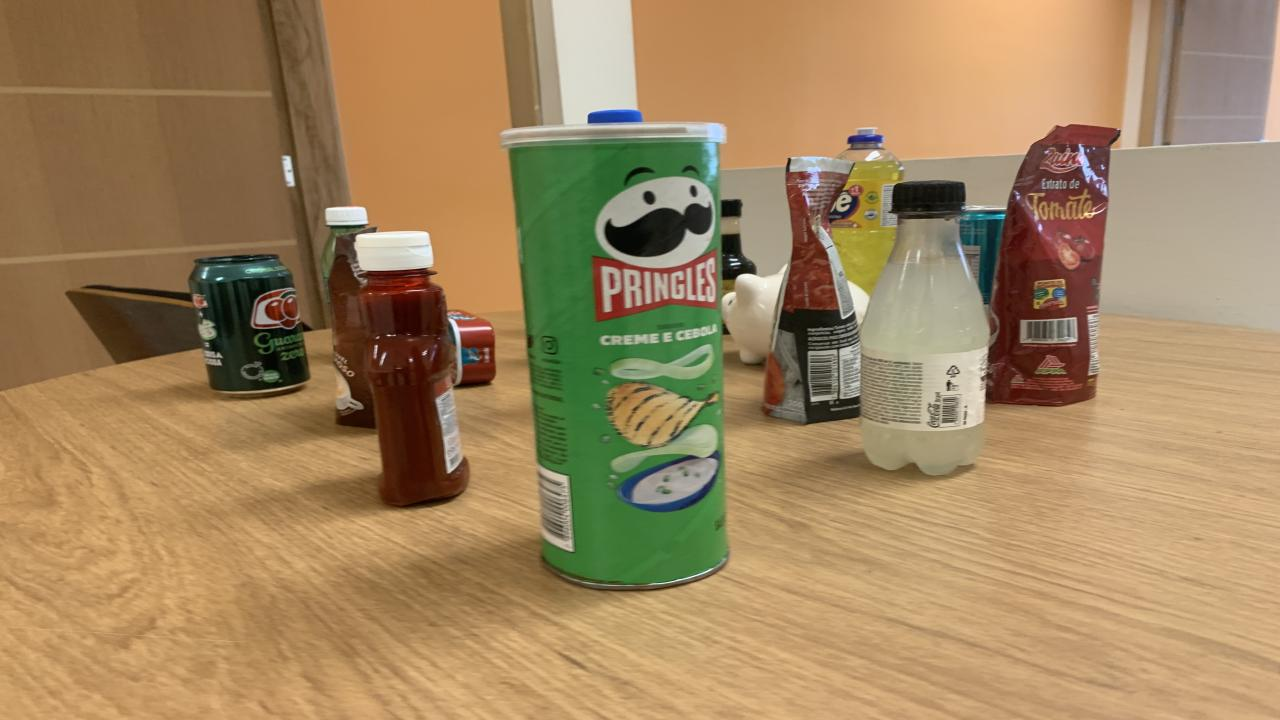Coffee-Pantry_Items: (328, 232, 375, 428), (338, 317, 340, 319)
Detergent-Cleanup_Items: (830, 128, 905, 289)
English_Sauce-Pantry_Items: (720, 199, 755, 294)
Guarana-Drinks: (320, 206, 368, 311), (320, 206, 368, 304)
Guarana_Can-Drinks: (190, 255, 310, 396)
Ketchup-Pantry_Items: (355, 232, 470, 506)
Pig_Safe-Miscellaneous: (722, 270, 785, 364)
Pringles-Snacks: (502, 111, 728, 589), (502, 124, 728, 587)
Soda-Drinks: (860, 182, 990, 474)
Tea-Drinks: (960, 206, 1005, 304)
Tomato_Sauce-Pantry_Items: (988, 124, 1118, 405), (762, 158, 860, 424)
Tuna_Can-Pantry_Items: (448, 309, 495, 384)
Water_Bottle-Drinks: (588, 109, 642, 124)
